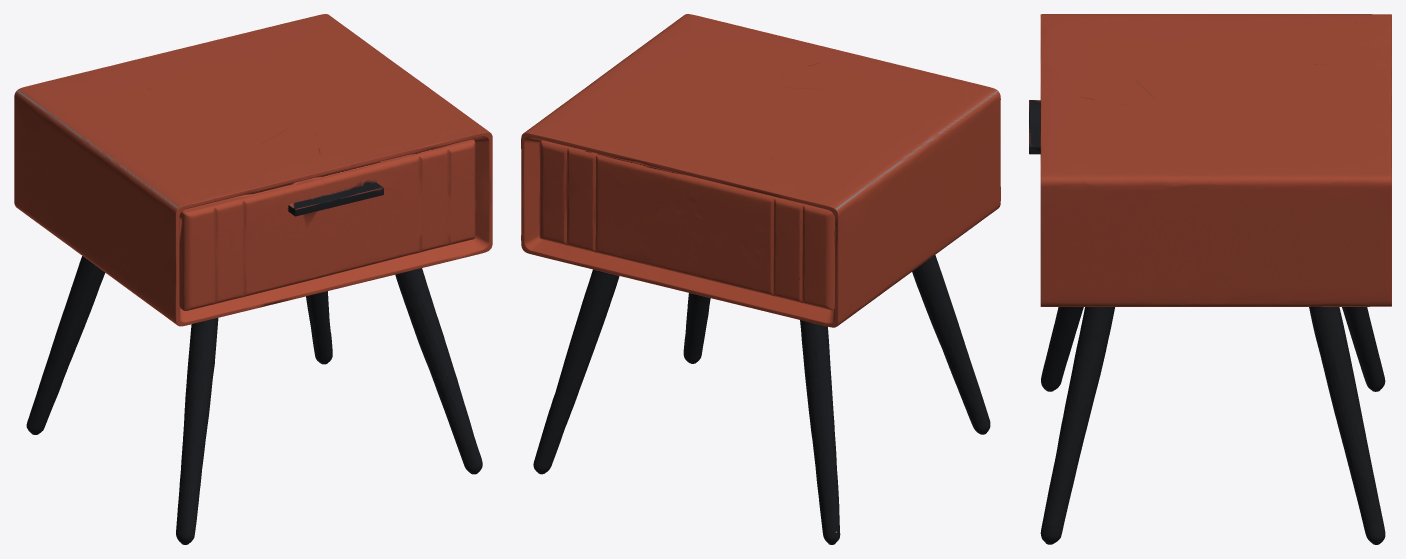
Rendered from grv-nightstand.glb.
3 views of the same model, side by side, from view 1: azimuth 30°, elevation 25°; view 2: azimuth 150°, elevation 25°; view 3: azimuth 270°, elevation 25° (orthographic). The views are drawn at different scales.
Bounding box in the file's own units: 1.84 × 1.9 × 1.68.
Materials: 1 (1 with a texture image).
